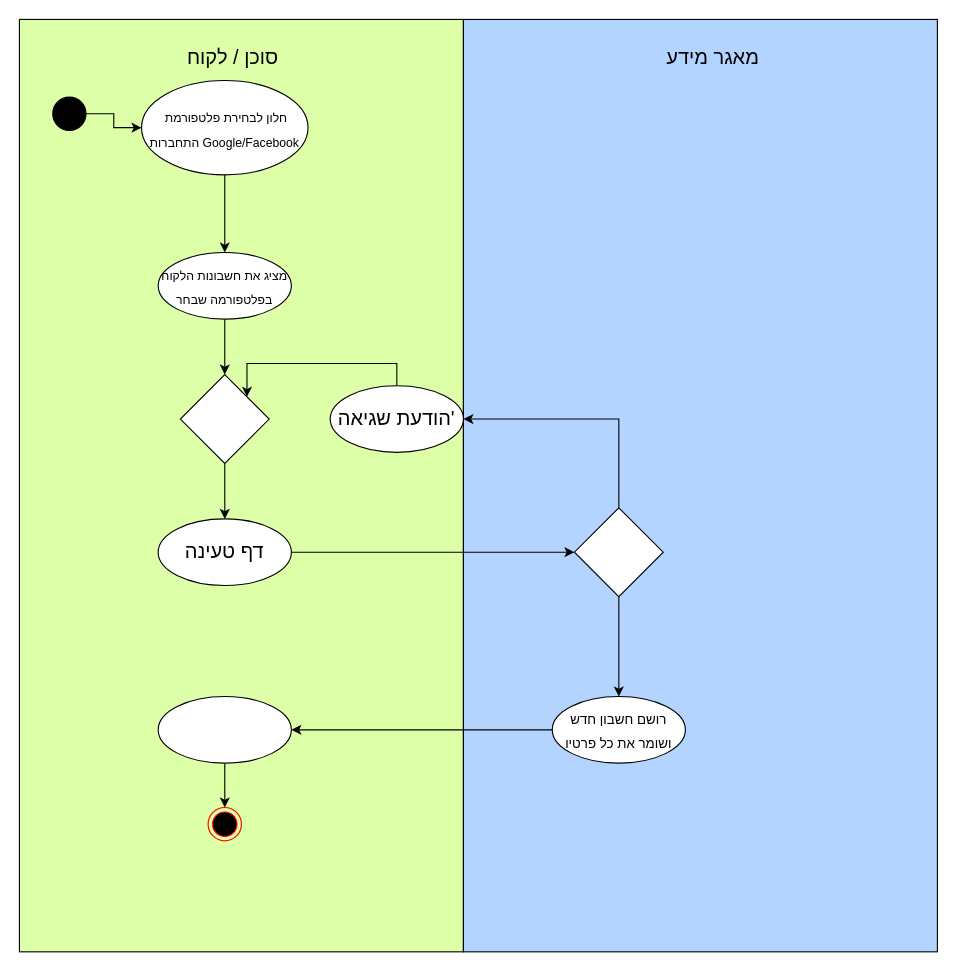
Image size: 957x972. Some labels were removed from this diagram. Each missing label, with the centre of its shape:
"דף ראשי" goes at pixel 224 729.
"חשבון כבר קיים" goes at pixel 618 552.
"לחץ על אחד מחשבונותיו" goes at pixel 224 418.
